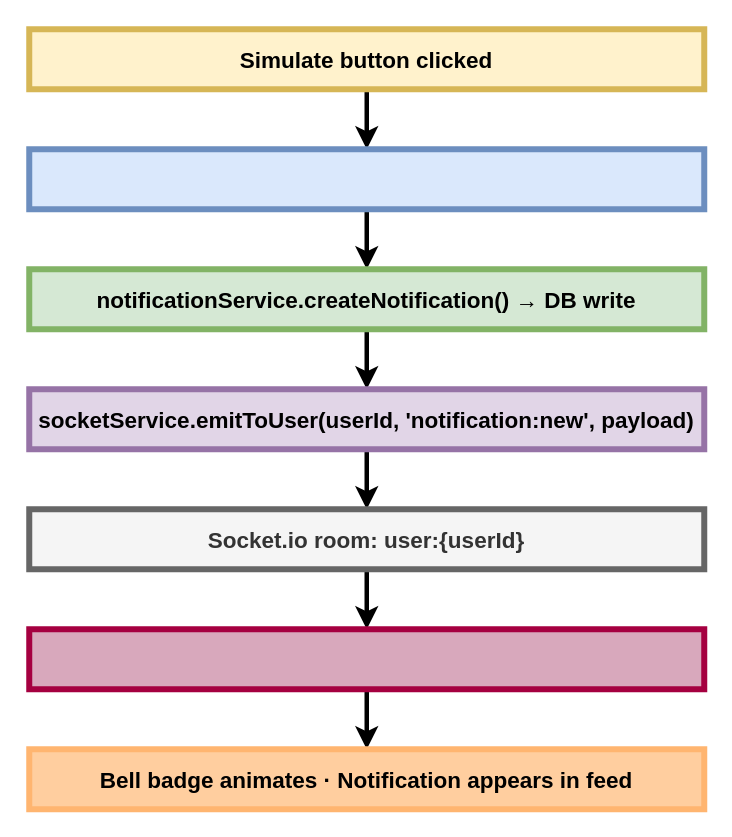
The diagram is 732 pixels wide and 837 high, and some of its shapes have lost their labels. The shapes that lost their labels are listed below. From the top down, each one's centre as x and y in pixels, then its label:
At (x=366, y=179): "POST /api/notifications/simulate".
At (x=366, y=659): "Client receives event → Zustand store updates".
